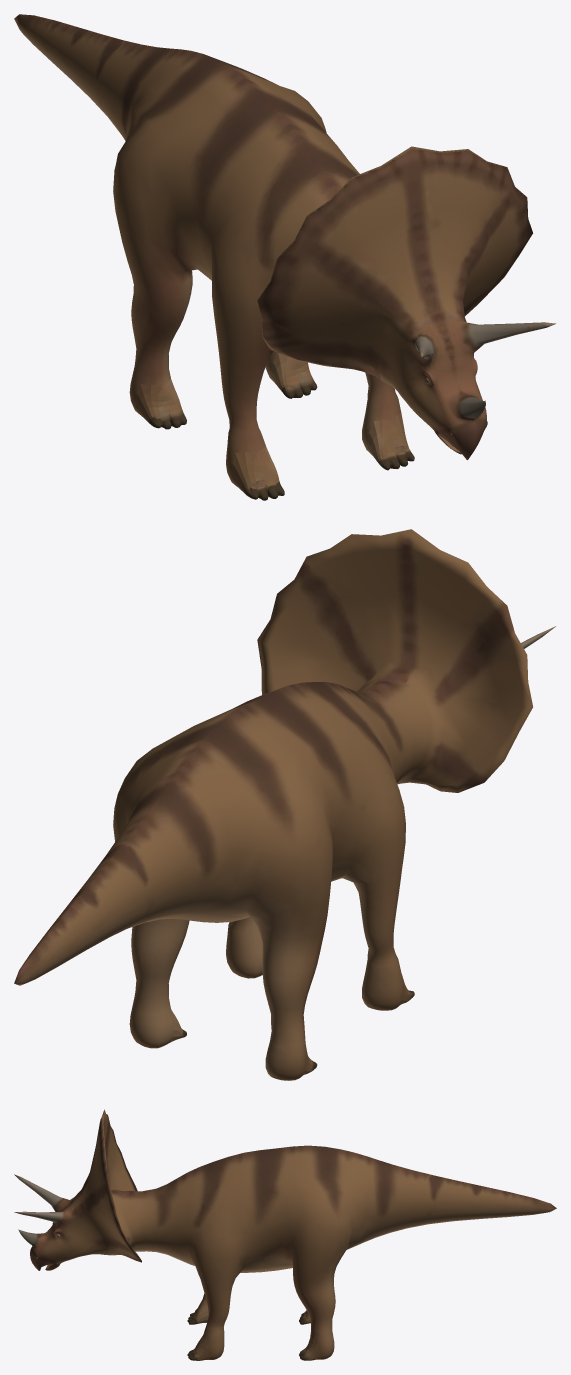
File: hornface.glb
3 views of the same model, one above another, from view 1: azimuth 30°, elevation 25°; view 2: azimuth 150°, elevation 25°; view 3: azimuth 270°, elevation 25° (orthographic). The views are drawn at different scales.
Bounding box in the file's own units: 156 × 212 × 464.
1 material, 1 textured.
